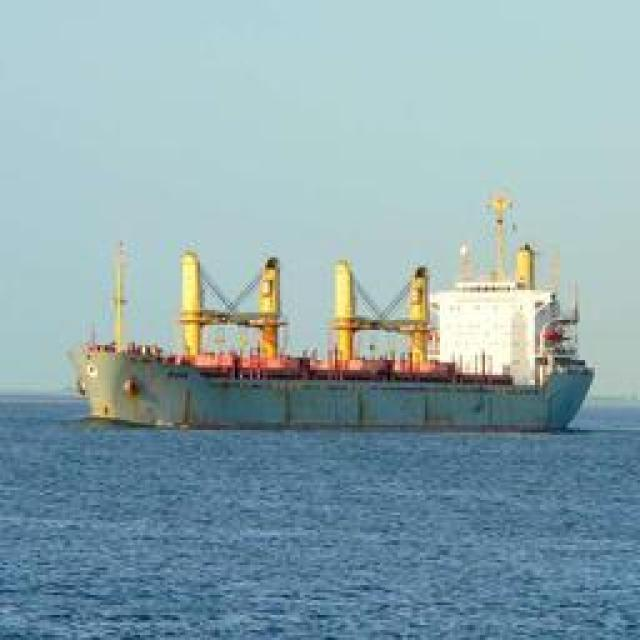ship2: (74, 180, 596, 436)
